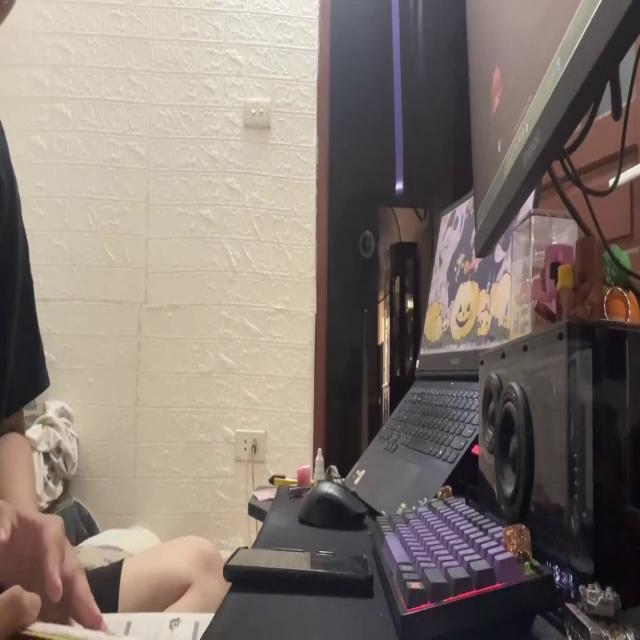book: (10, 594, 212, 640)
laptop: (340, 167, 542, 508), (462, 0, 639, 261)
phone: (222, 539, 372, 602)
student: (0, 0, 231, 640)
